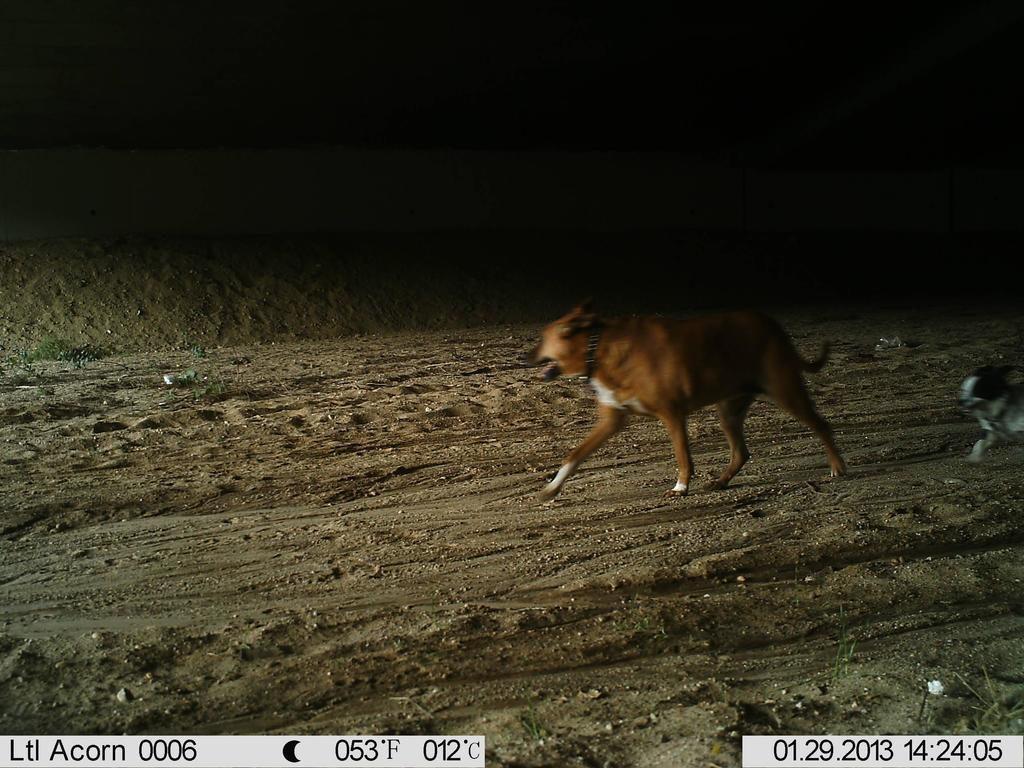dog: (516, 295, 863, 514), (953, 357, 1023, 479)
